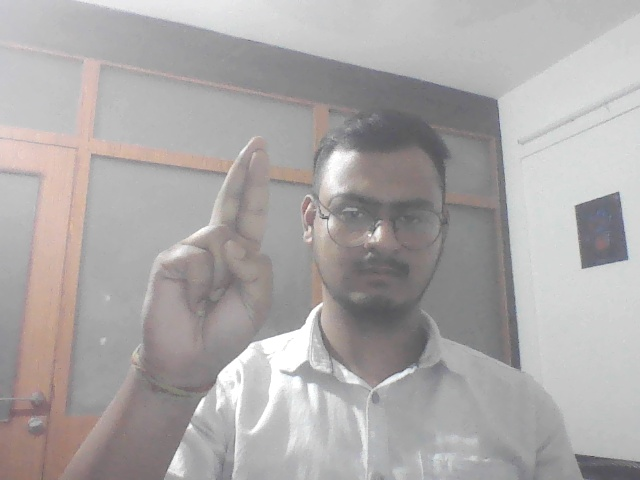GoodLuck: (119, 127, 279, 378)
